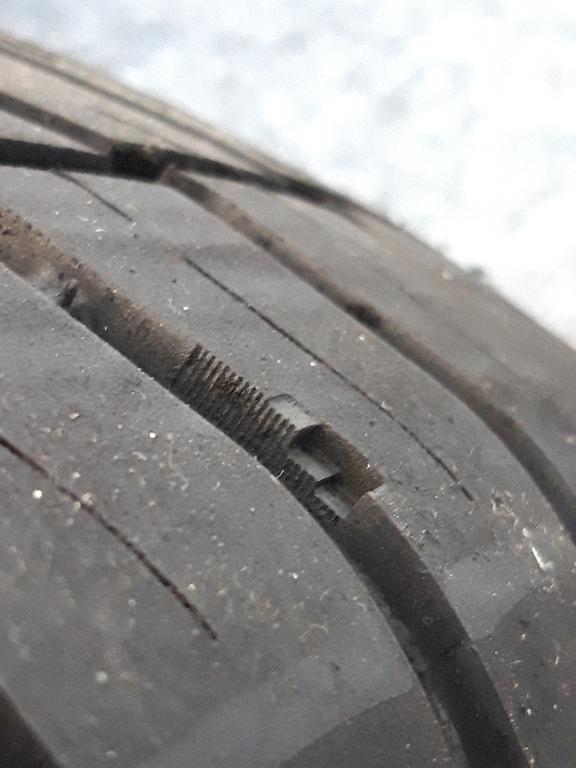temoin:50: (236, 390, 394, 533)
